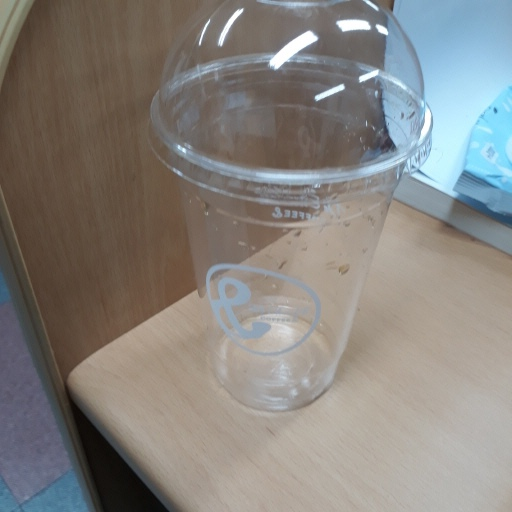Plastic_2: (144, 1, 435, 414)
